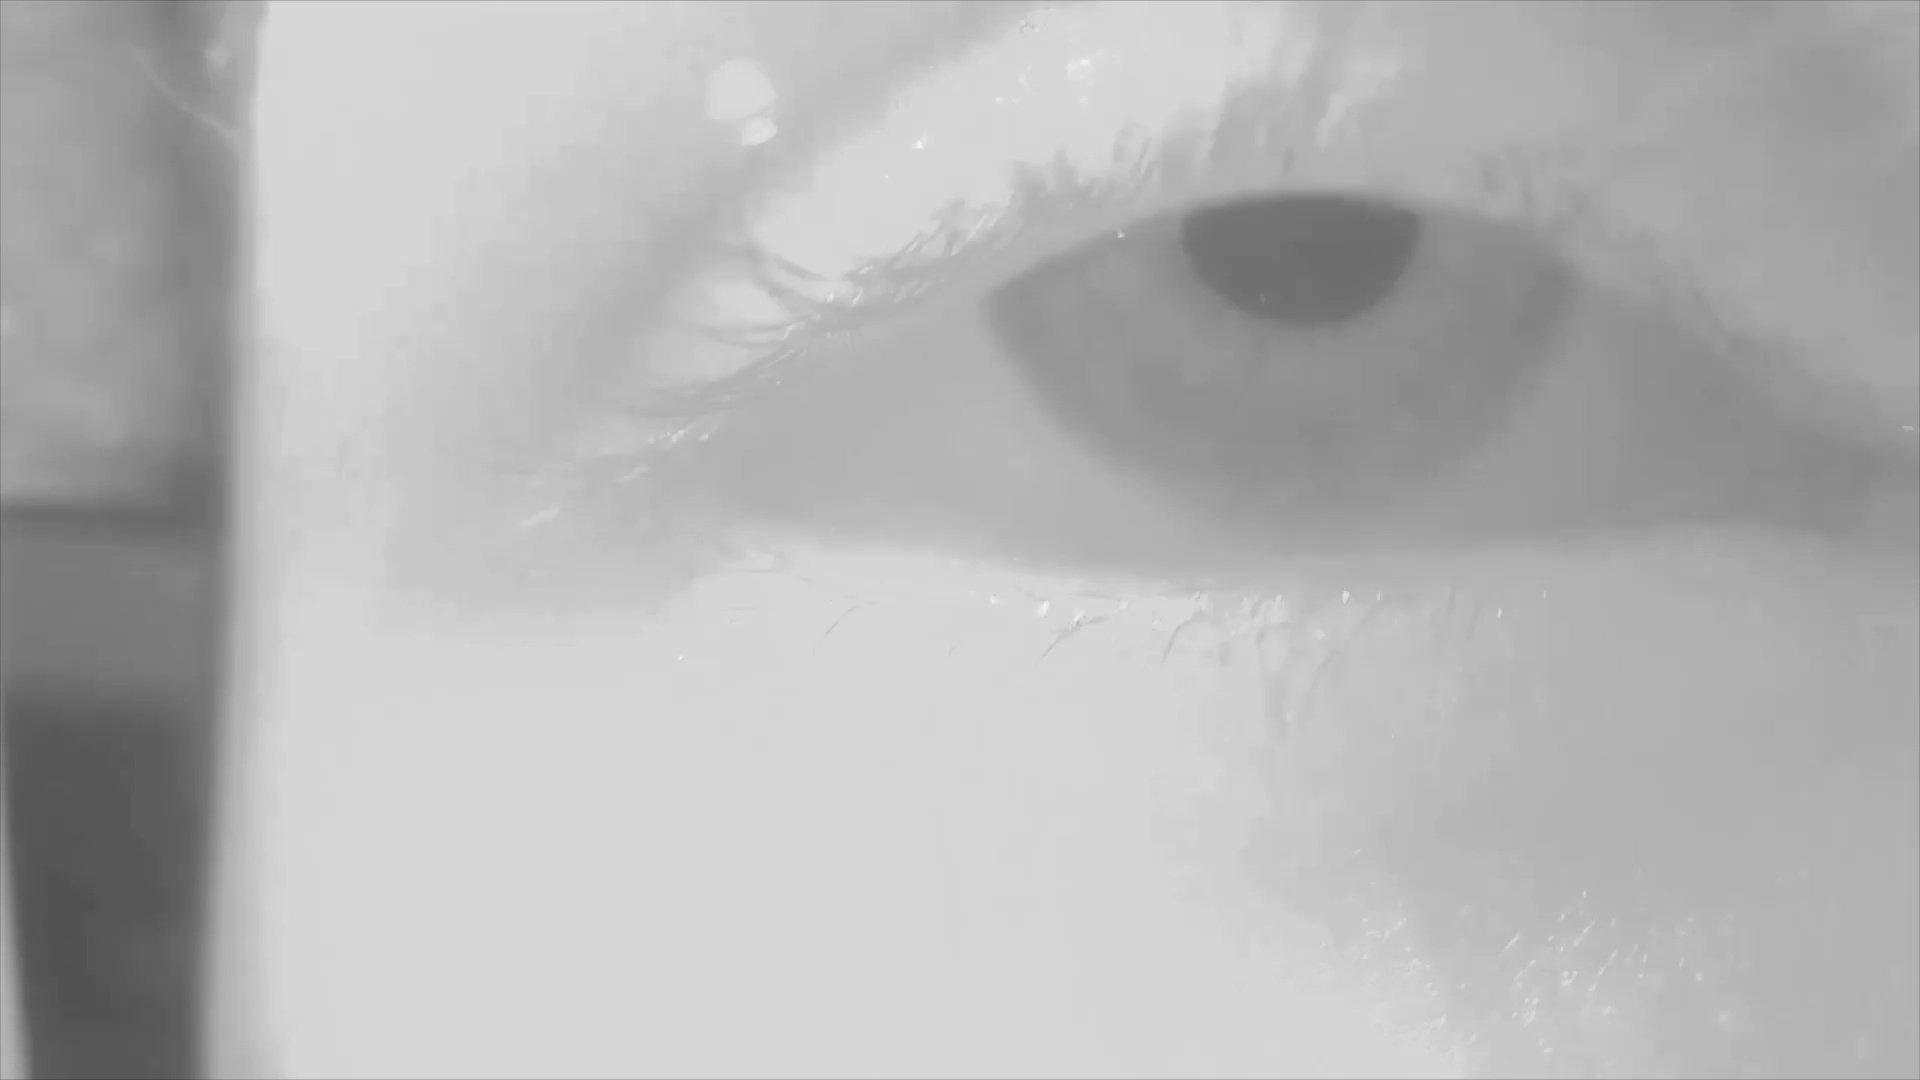pupil: (1186, 196, 1424, 316)
